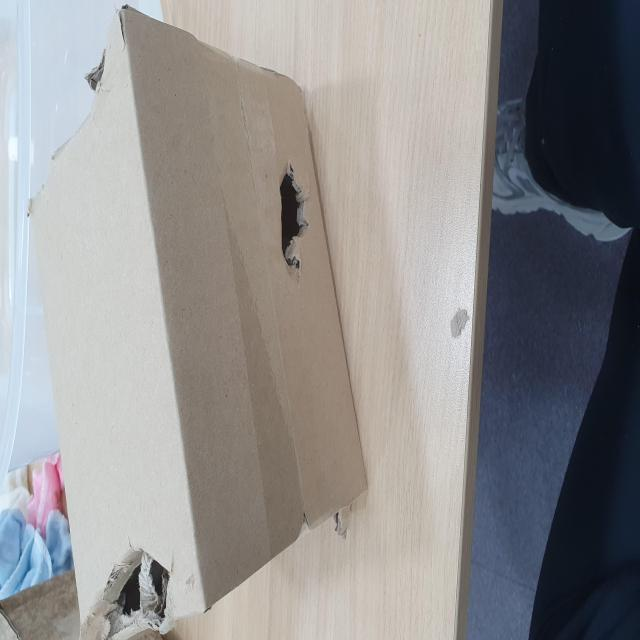damaged: (4, 152, 54, 324), (204, 497, 276, 545)
